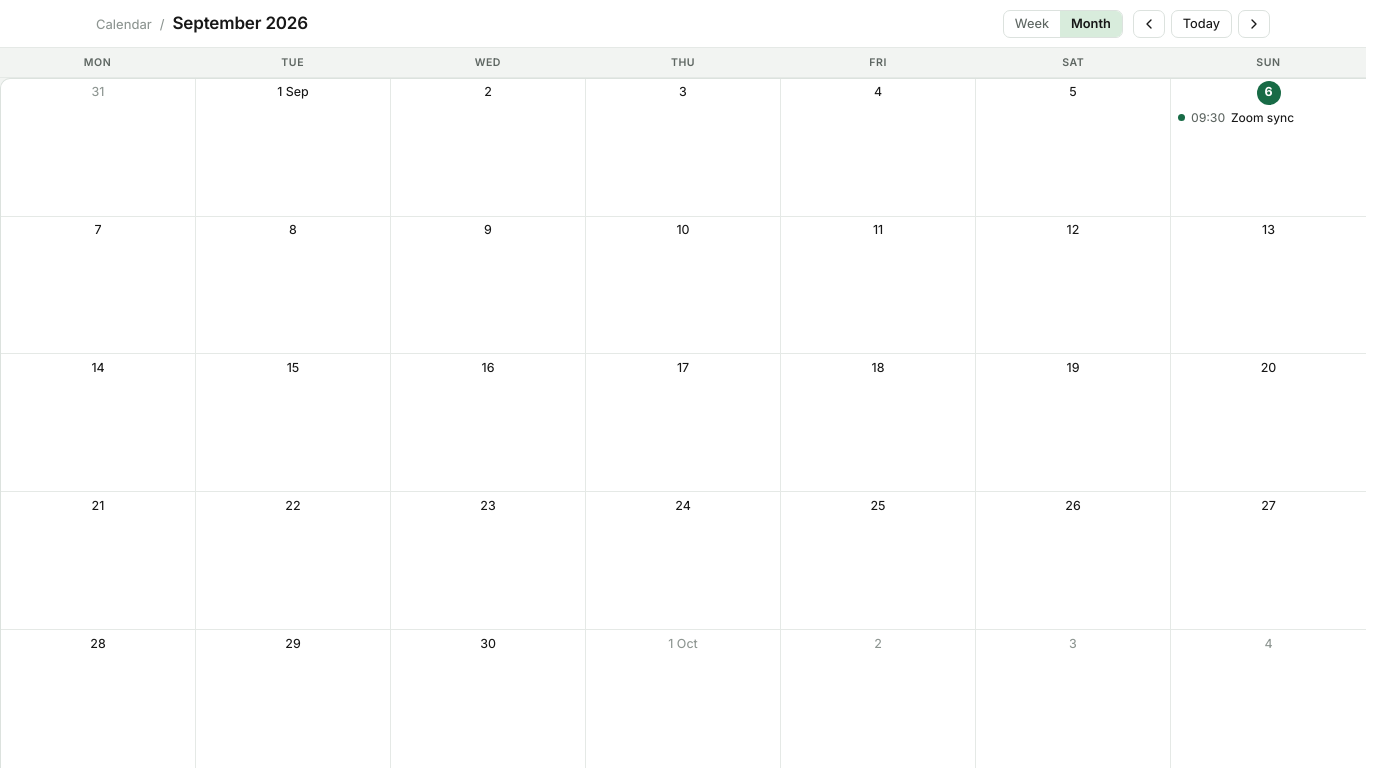
it: calendar context menus › opens the day menu on a cell and the event menu on an event — never both
Expected: the text "Zoom sync" is shown, 1231,109 -> 1294,127
Right-click the text "6".
right_click(1268, 105)  # box 1173,81 -> 1364,128
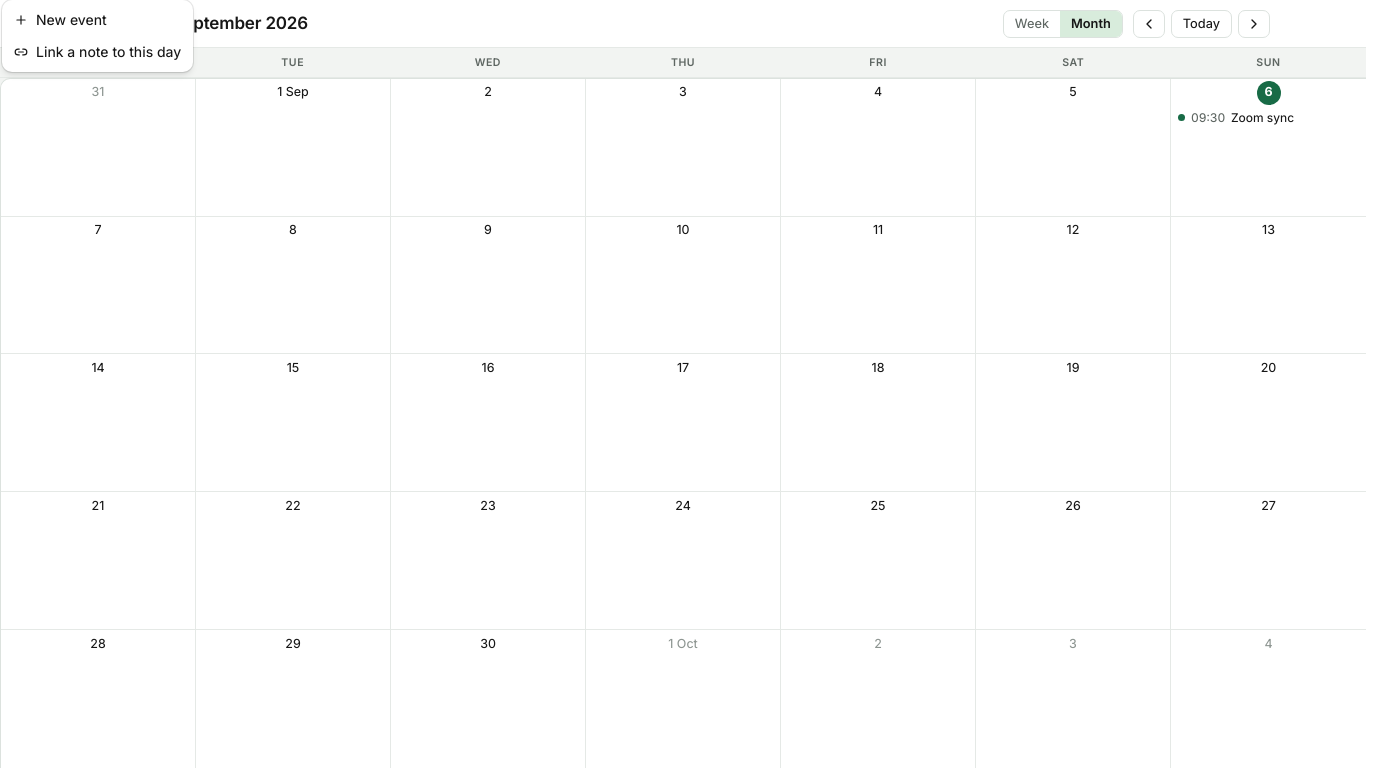
Expected: the text "Delete event" is not shown
Result: the menu item "New event" is shown at 14,11 -> 107,28
Result: the menu item "Link a note to this day" is shown at 14,43 -> 181,60
Press Escape in the menu, box 2,0 -> 193,72
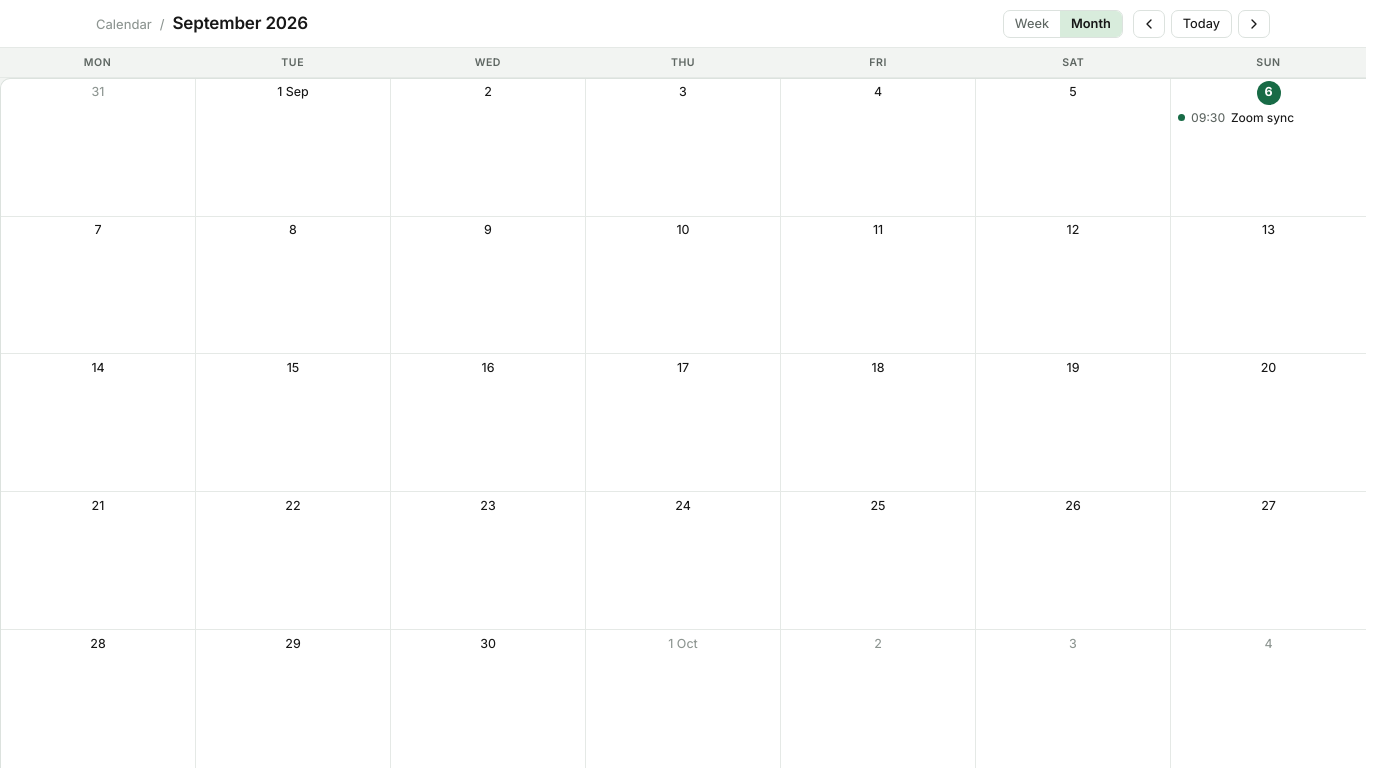
Result: the menu item "New event" is gone
Right-click the button with class "calendar-event-row".
right_click(1268, 118)  # box 1173,107 -> 1364,128
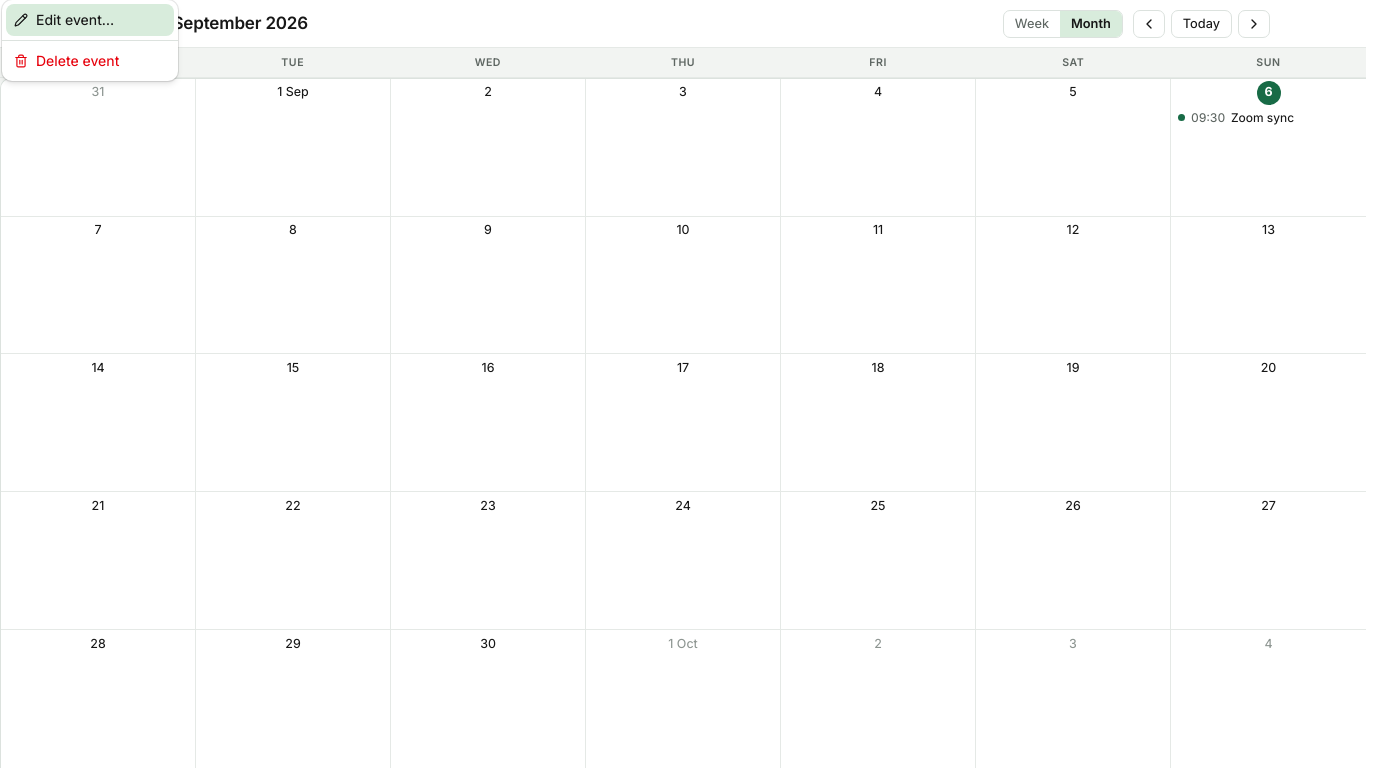
Expected: the menu item "New event" is not shown
Result: the menu item "Delete event" is shown at 14,52 -> 119,69
Result: the menu item "Edit event…" is shown at 6,4 -> 174,36
